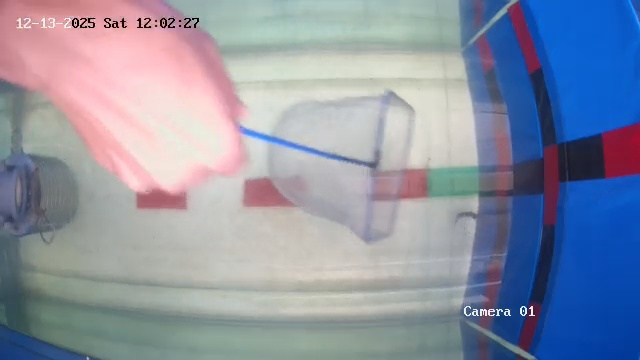fish: (452, 207, 490, 242)
